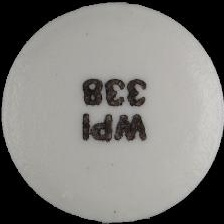42254-059: (0, 0, 224, 224)
